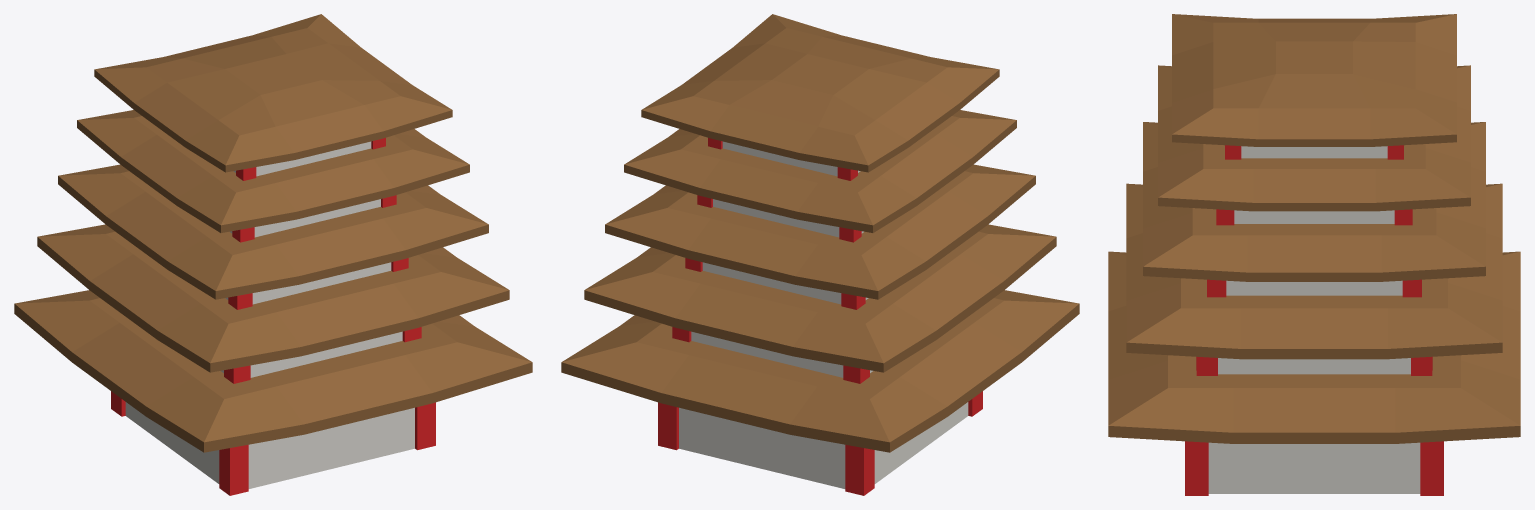
File: JapanTemple2.fbx
3 renders of one model, left to right at view 1: azimuth 30°, elevation 25°; view 2: azimuth 150°, elevation 25°; view 3: azimuth 270°, elevation 25°, orthographic. The views are drawn at different scales.
Parts seen in each view (by area): view 1: Cube.001; view 2: Cube.001; view 3: Cube.001.
Part boxes in pixels (left/top/right/bottom): Cube.001: left=14, top=14, right=532, bottom=495; Cube.001: left=561, top=14, right=1079, bottom=495; Cube.001: left=1108, top=14, right=1520, bottom=495.
Bounding box in the file's own units: 662 × 680 × 662.
